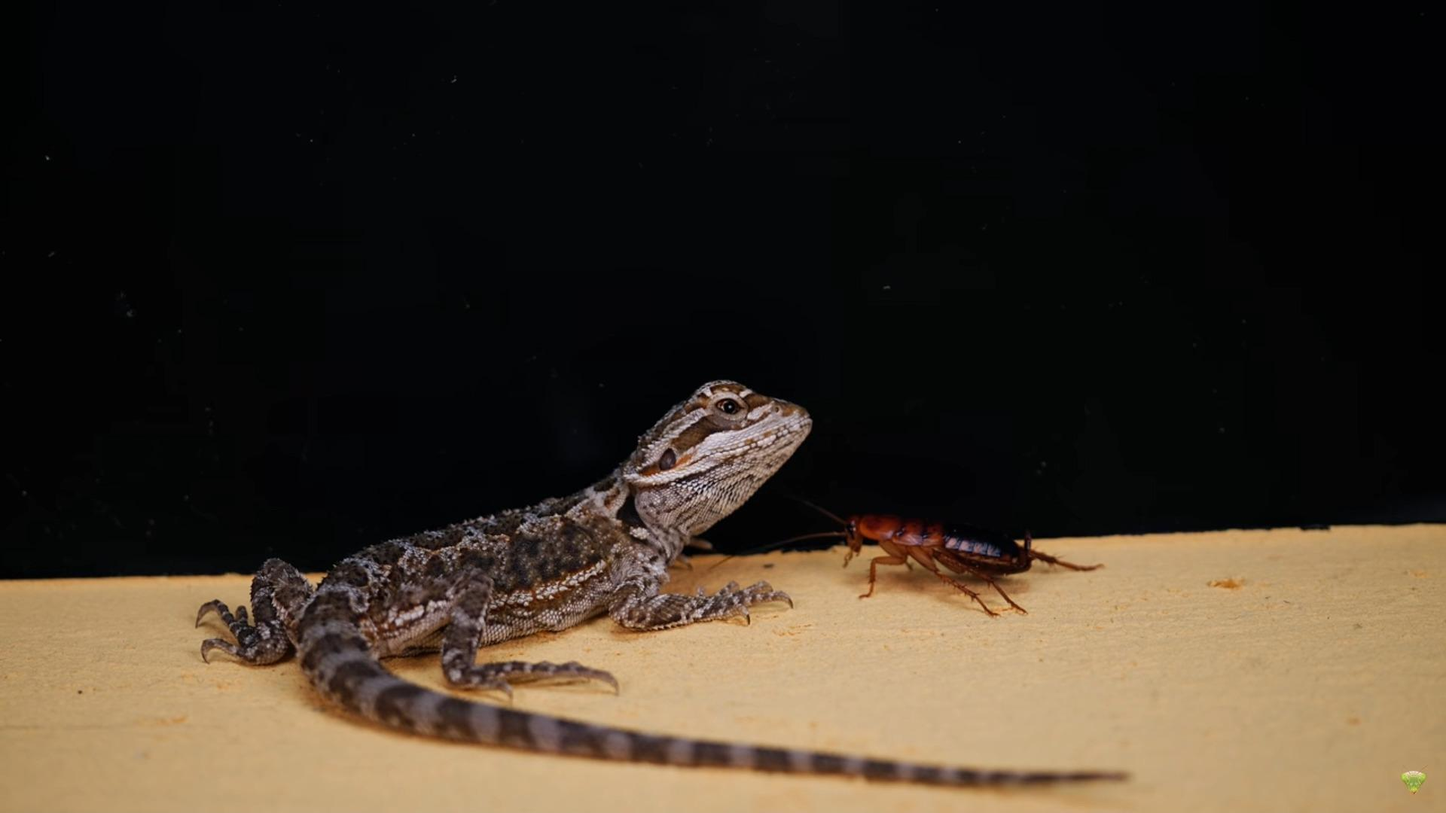cockroach: (815, 487, 1090, 619)
lizard: (210, 374, 915, 784)
